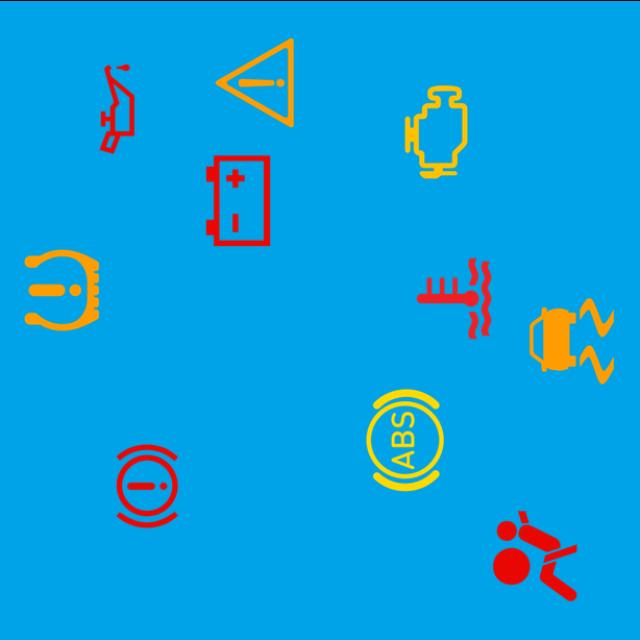Anti Lock Braking System: (349, 384, 461, 496)
Braking System Issue: (92, 429, 204, 541)
Charging System Issue: (182, 144, 294, 255)
Check Engine: (380, 75, 492, 187)
Electronic Stability Problem -ESP-: (516, 284, 628, 396)
Engine Overheating Warning Light: (398, 242, 510, 354)
Low Engine Oil Warning Light: (62, 52, 174, 164)
Low Tire Pressure Warning Light: (6, 234, 118, 346)
Master warning light: (199, 26, 311, 138)
SRS-Airbag: (479, 499, 591, 611)
